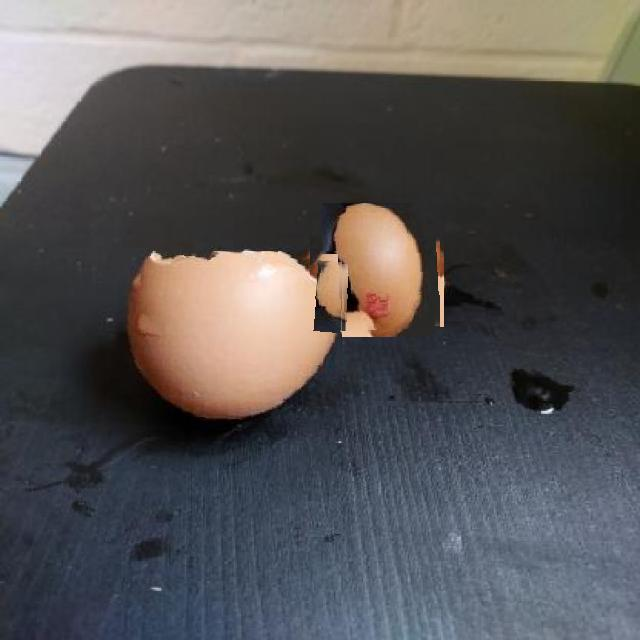biodegradable: (109, 251, 342, 431), (314, 208, 440, 332)
